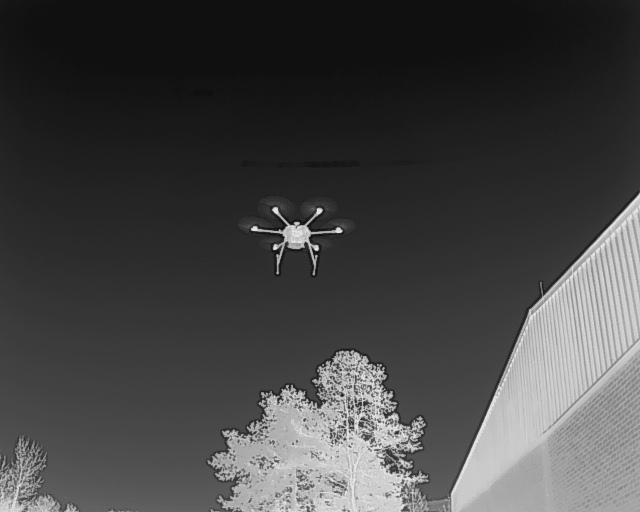drone: (241, 191, 349, 283)
